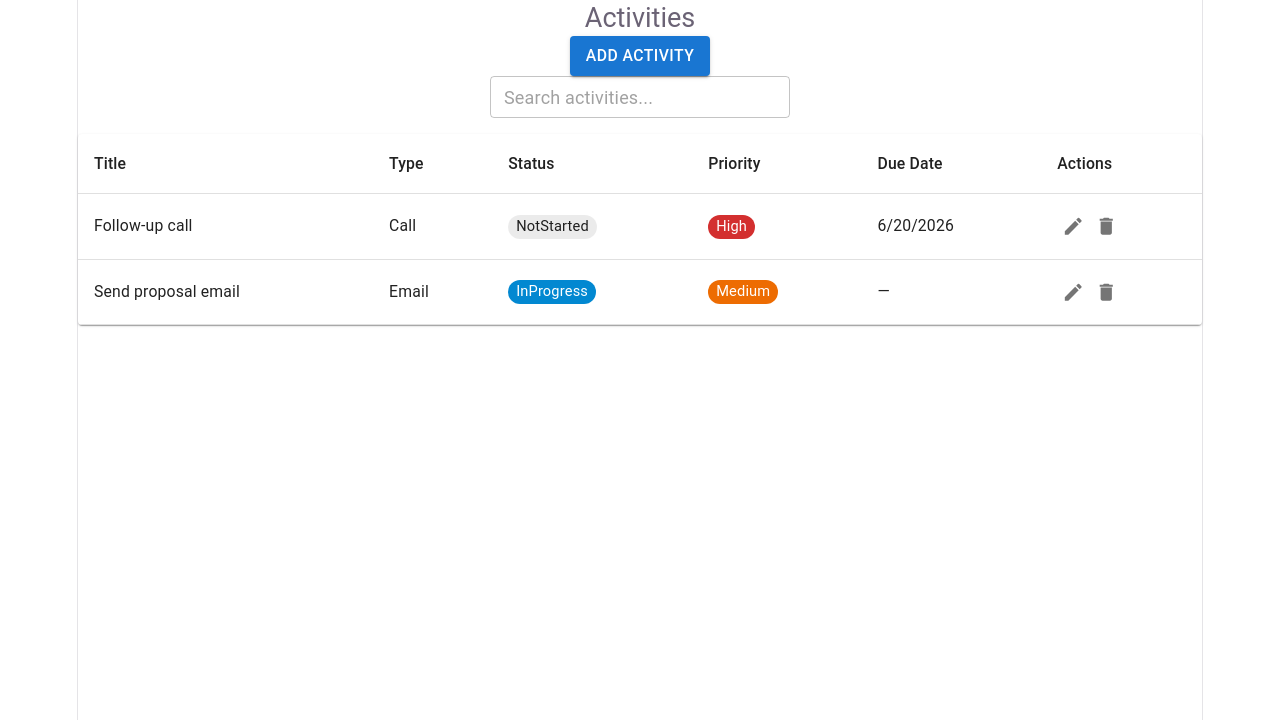
Test: ActivityListPage › opens edit dialog when Edit clicked
Expected: the text "Follow-up call" is shown, 78,194 -> 373,260
Click the button named "edit" in the row of "Follow-up call" at (1073, 227), box 1057,210 -> 1090,243
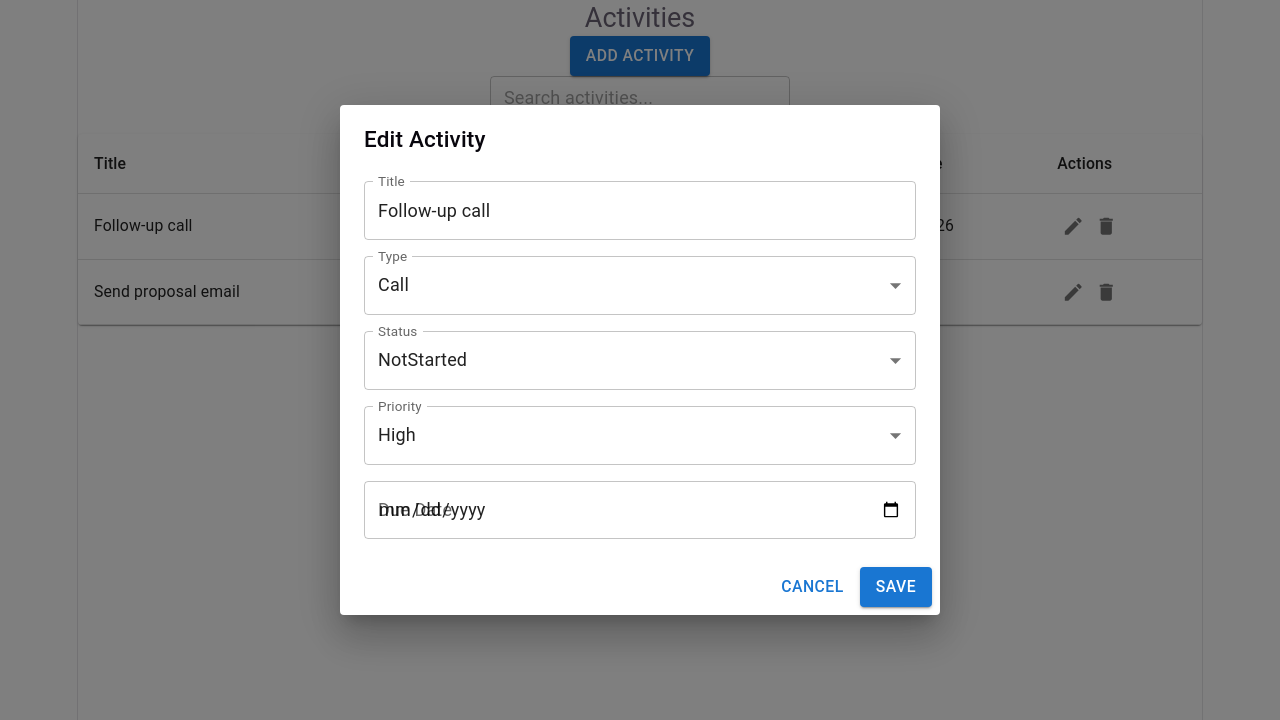
Expected: the dialog is shown, 340,105 -> 940,615
Expected: the field showing "Follow-up call" is shown, 364,181 -> 916,240
